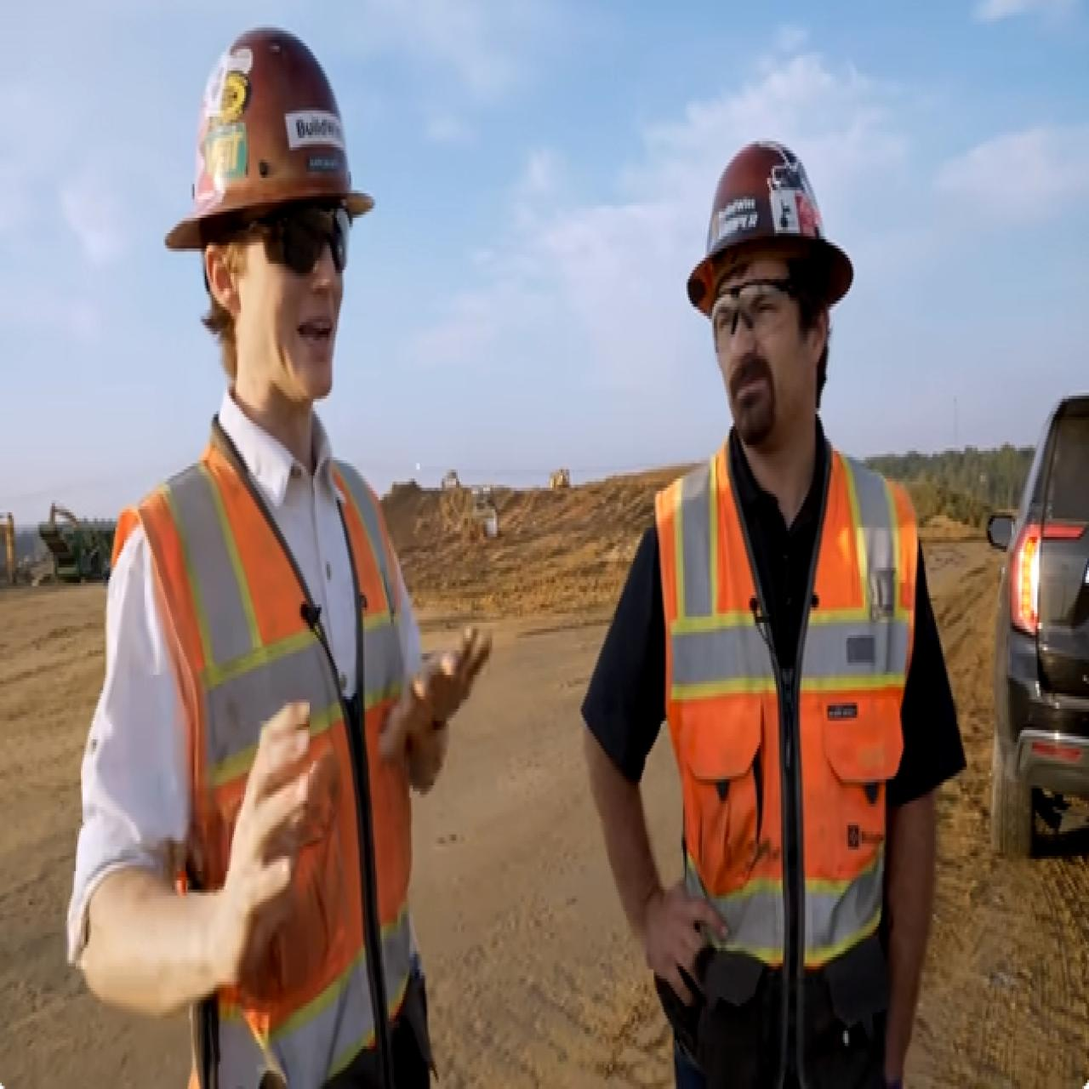Person: (72, 18, 499, 1089), (567, 97, 972, 1089)
Safety_Vest: (115, 411, 428, 1089), (645, 446, 912, 990)
